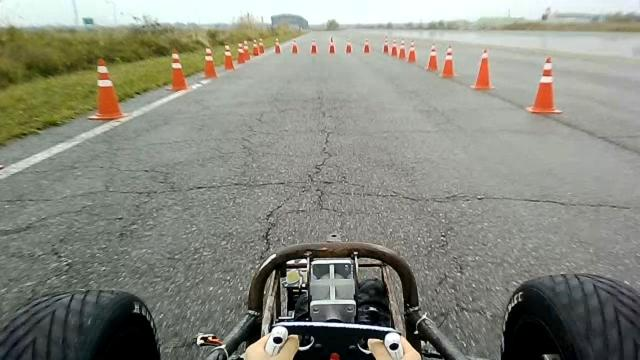red cone: (86, 58, 130, 120), (526, 56, 562, 114), (165, 48, 189, 92), (470, 48, 495, 90), (202, 46, 218, 78), (441, 45, 456, 78), (222, 40, 236, 73), (426, 43, 438, 72), (407, 40, 417, 62), (237, 40, 245, 64), (398, 39, 406, 59)
